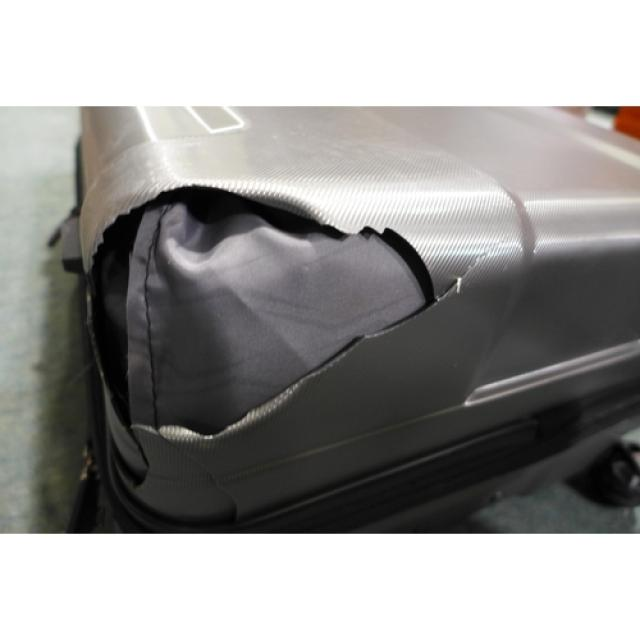Damage-bag: (92, 181, 485, 489), (159, 426, 236, 521)
